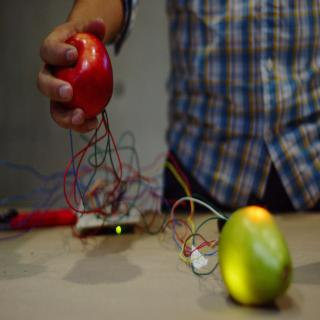Apple: (55, 32, 114, 121)
